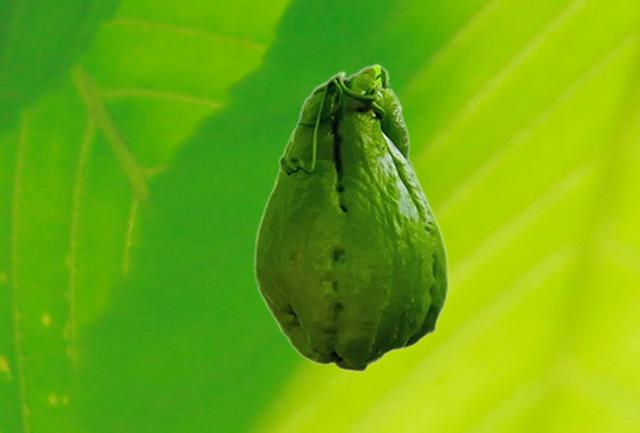sayote: (253, 63, 449, 372)
